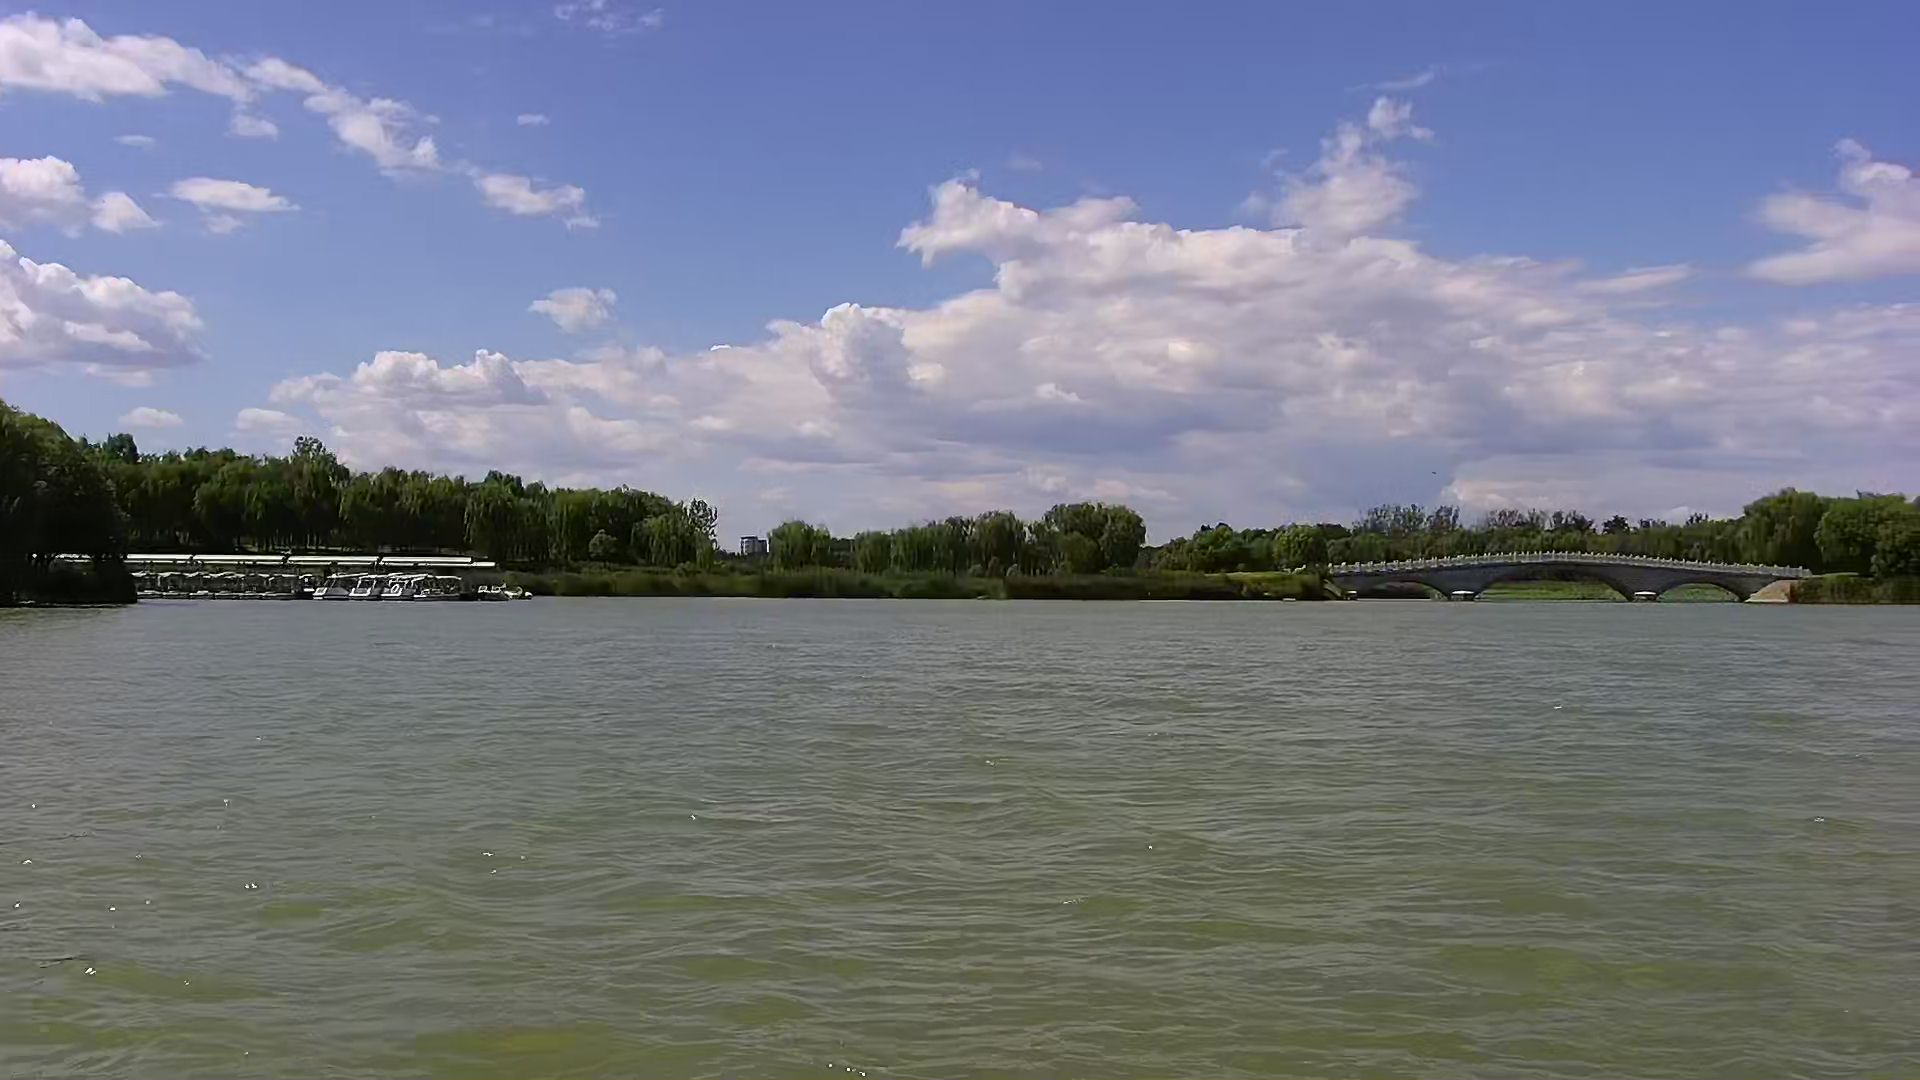bridge: (1299, 549, 1811, 611)
harbor: (113, 545, 543, 615)
